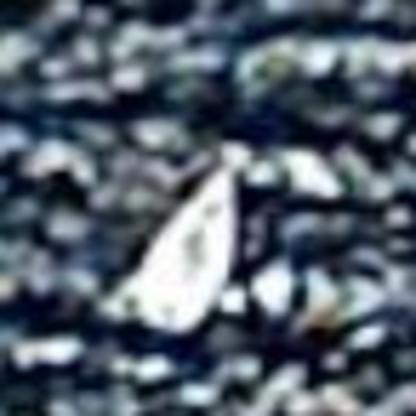ship: (86, 157, 248, 339)
